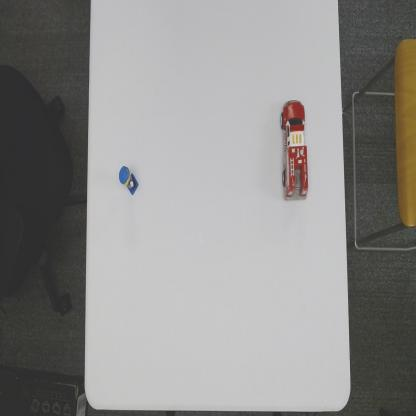Firetruck: (277, 99, 310, 203)
